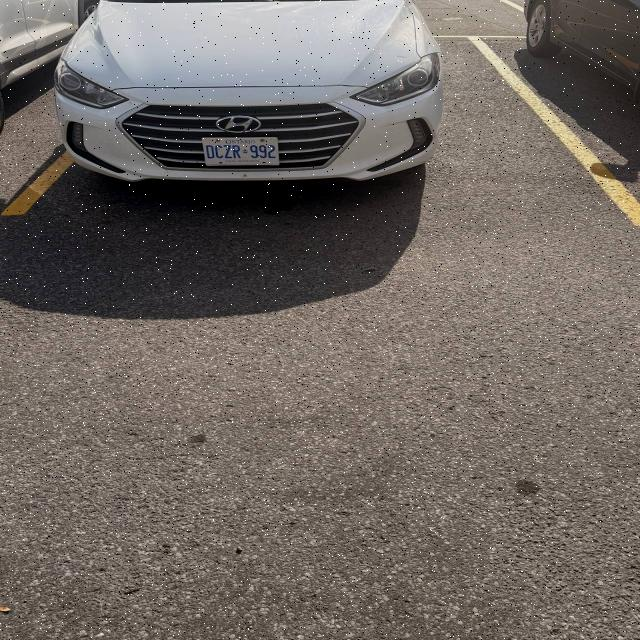plaque: (202, 137, 279, 165)
